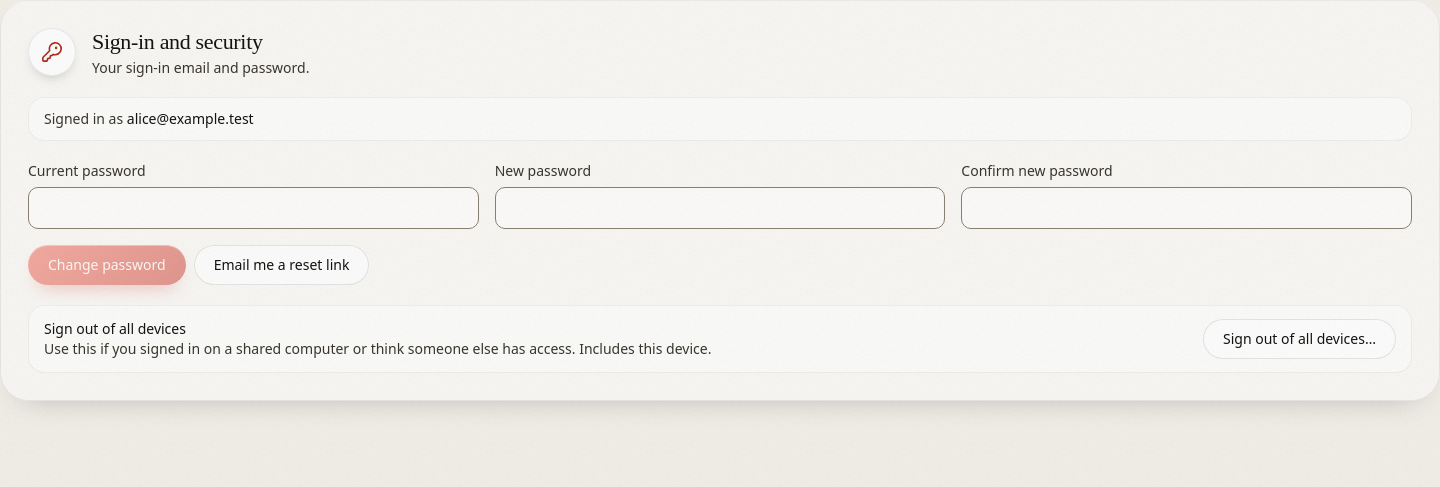
it: security › emails a reset link to the signed-in address
Click the button "Email me a reset link".
click(282, 265)  # box [194,245,369,285]
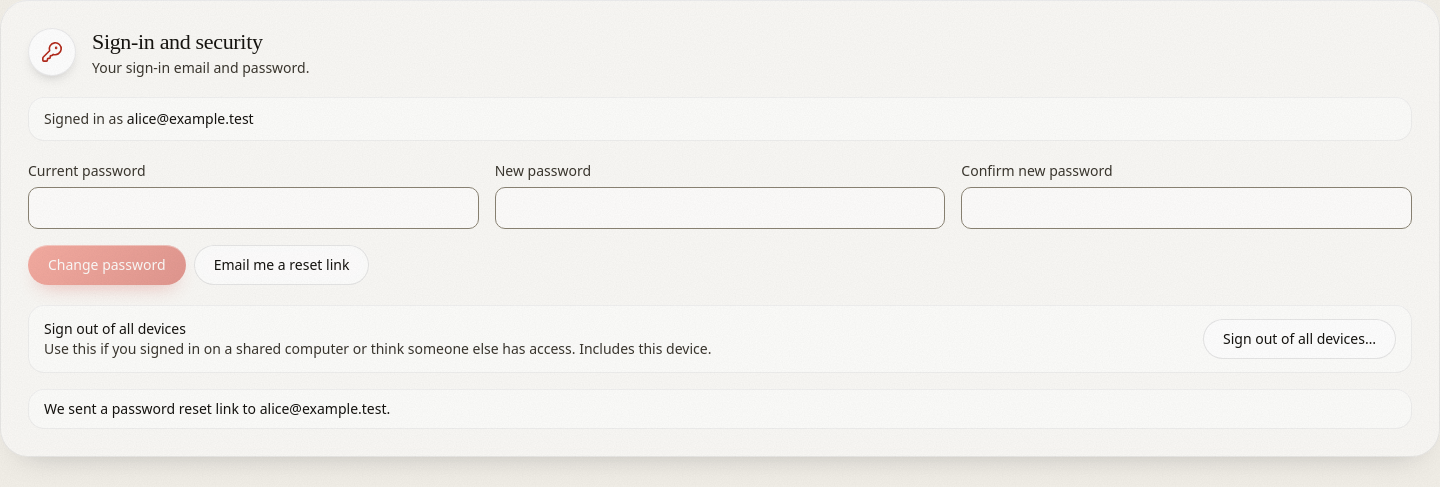
Result: the message shows "alice@example.test" at [44,399,390,418]
